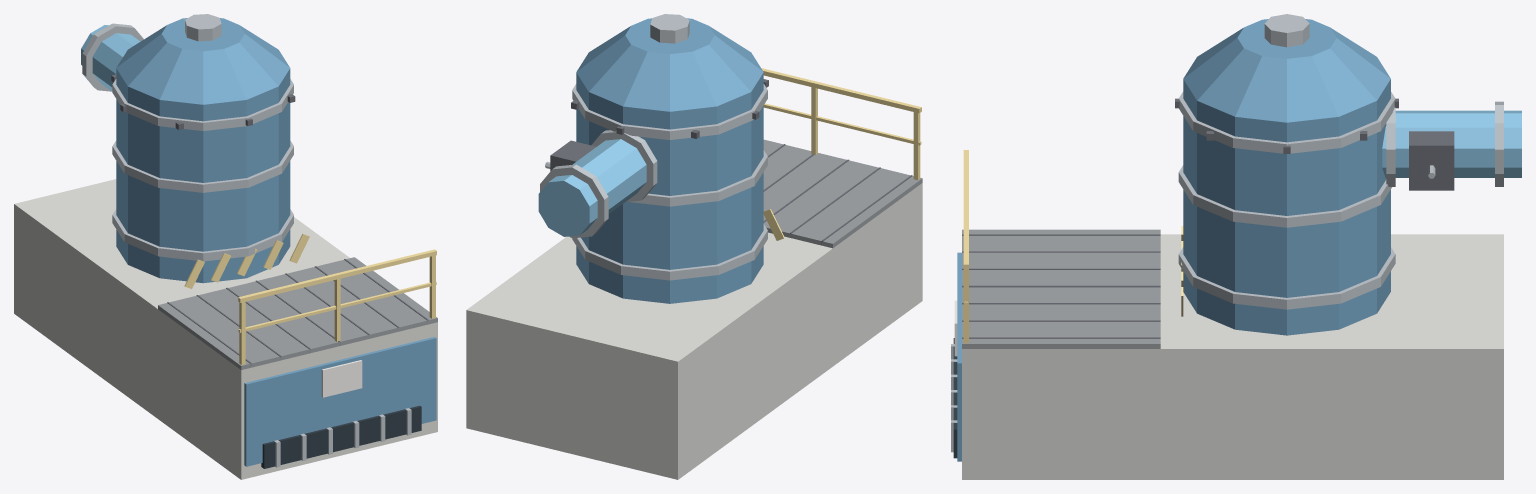
Rendered from MachineChamber.fbx.
3 views of the same model, side by side, from view 1: azimuth 30°, elevation 25°; view 2: azimuth 150°, elevation 25°; view 3: azimuth 270°, elevation 25° (orthographic). The views are drawn at different scales.
Parts seen in each view (by area): view 1: MachineChamber; view 2: MachineChamber; view 3: MachineChamber.
Part boxes in pixels (x1=…): MachineChamber: x1=14, y1=14, x2=437, y2=479; MachineChamber: x1=466, y1=14, x2=922, y2=479; MachineChamber: x1=951, y1=14, x2=1521, y2=479.
Size of the model in its own units: 3 by 4.88 by 6.32.
